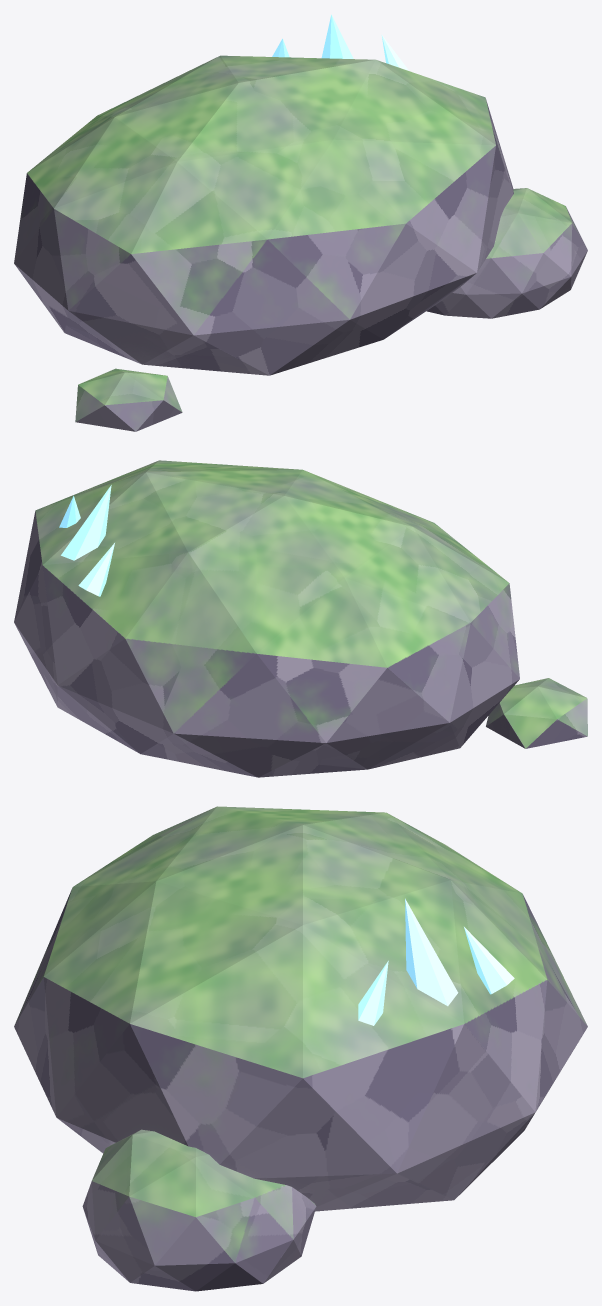
File: rock_painted.glb
The picture shows the model from 3 angles, top to bottom: view 1: azimuth 30°, elevation 25°; view 2: azimuth 150°, elevation 25°; view 3: azimuth 270°, elevation 25°; orthographic projection. The views are drawn at different scales.
Parts seen in each view (by area): view 1: Rock.001, rock_crystal0.001; view 2: Rock.001, rock_crystal0.001, rock_crystal2.001; view 3: Rock.001, rock_crystal0.001, rock_crystal2.001, rock_crystal1.001.
Part boxes in pixels (box(x1,y1,x2,y2)): Rock.001: box(14, 55, 587, 431); rock_crystal0.001: box(321, 14, 353, 58); Rock.001: box(14, 460, 587, 777); rock_crystal0.001: box(61, 485, 111, 560); rock_crystal2.001: box(78, 543, 114, 596); Rock.001: box(14, 806, 587, 1291); rock_crystal0.001: box(405, 898, 458, 1006); rock_crystal2.001: box(464, 927, 514, 994); rock_crystal1.001: box(358, 960, 388, 1025).
Bounding box in the file's own units: 3.3 × 1.45 × 2.41.
Materials: 2 (1 with a texture image).
